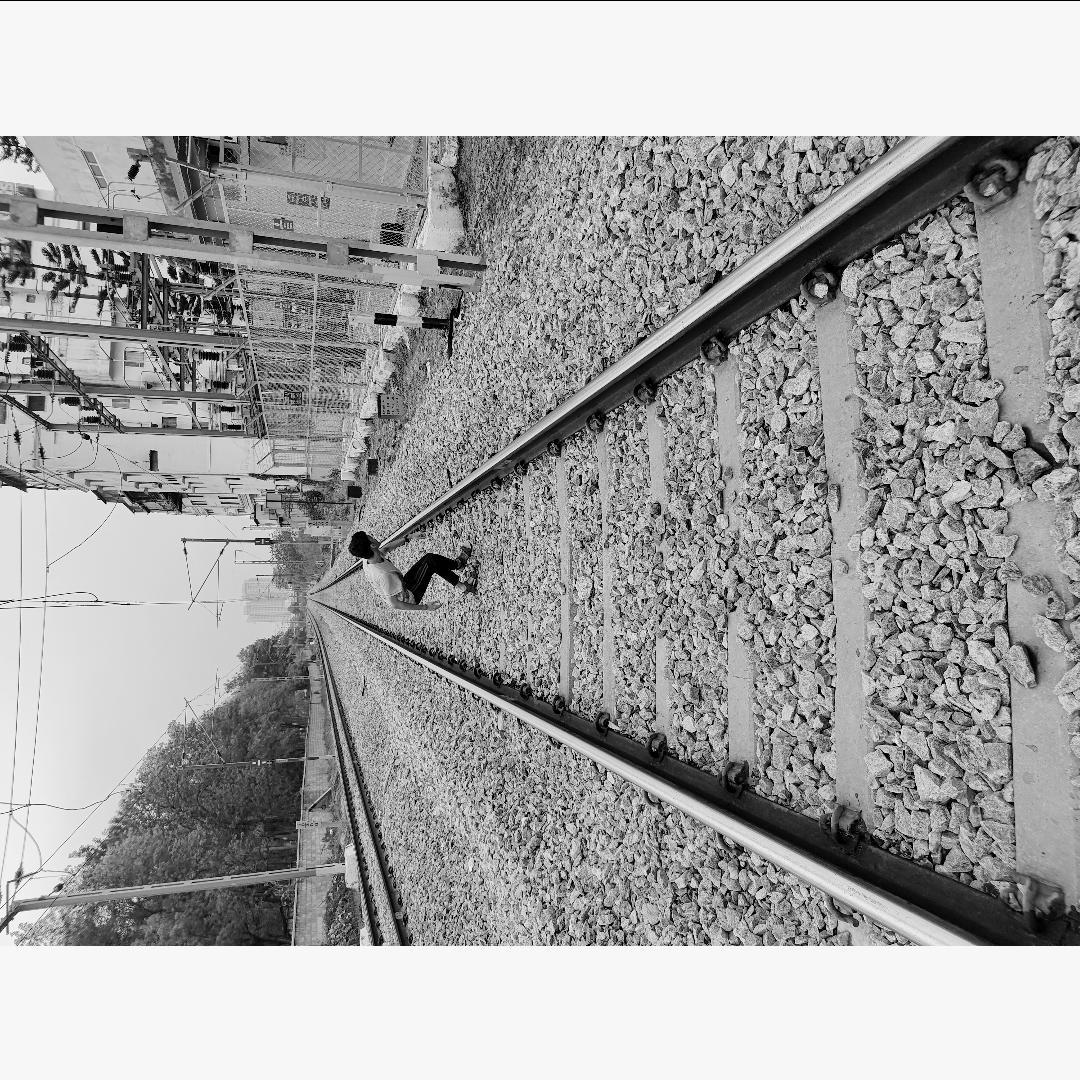standing: (346, 528, 478, 612)
track: (300, 135, 1080, 945)
